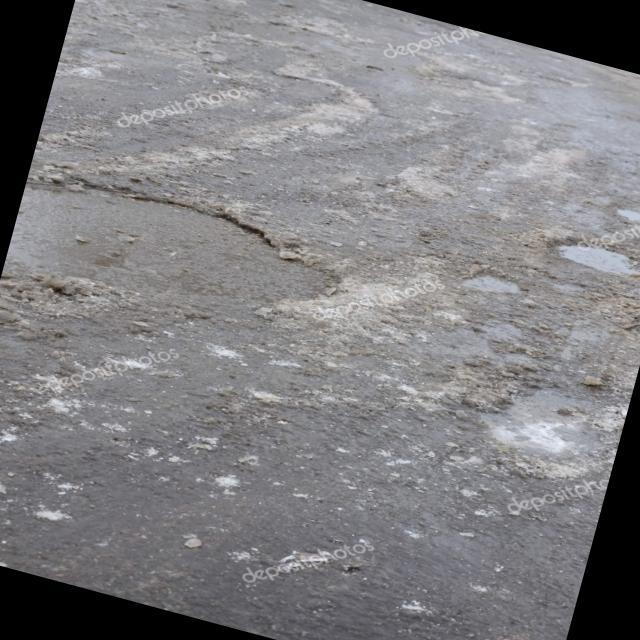Pothole: (3, 131, 396, 362), (445, 263, 560, 321), (546, 231, 640, 301)
